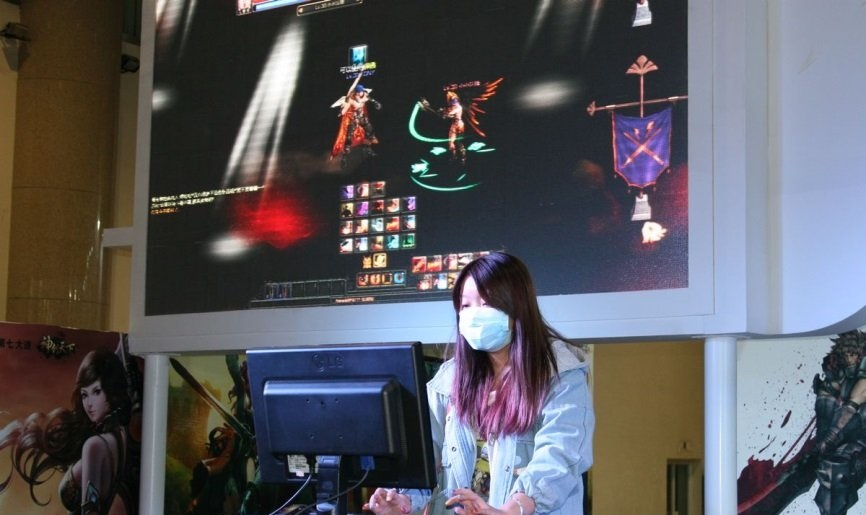face_mask: (459, 279, 513, 352)
